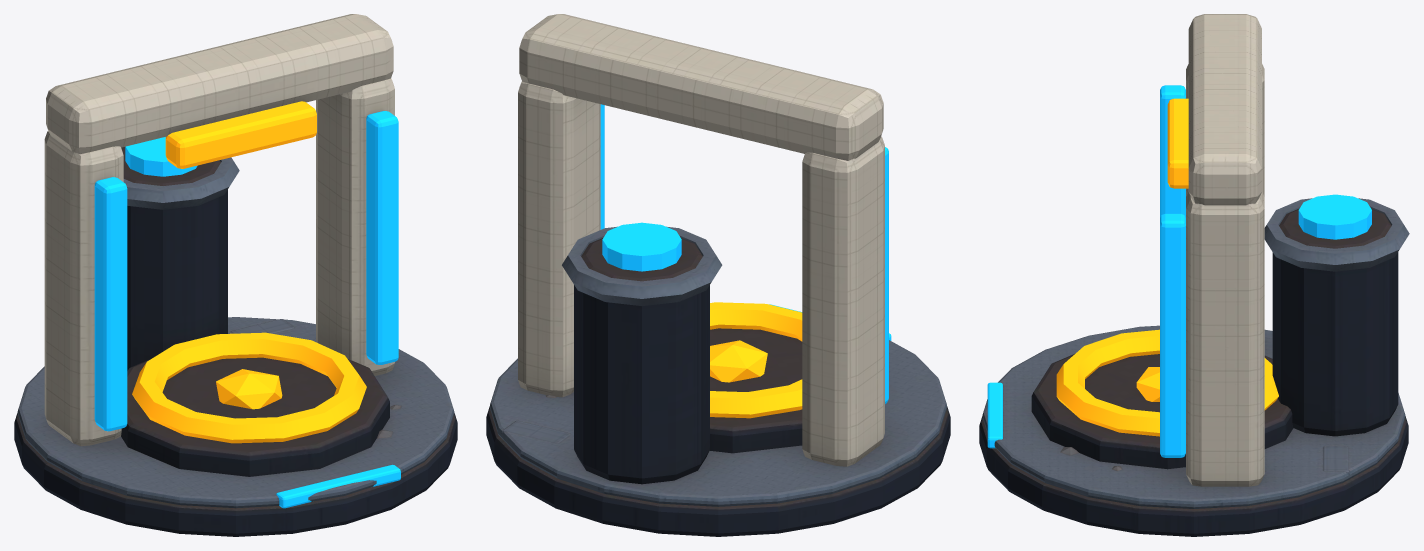
File: charger.glb
3 renders of one model, left to right at view 1: azimuth 30°, elevation 25°; view 2: azimuth 150°, elevation 25°; view 3: azimuth 270°, elevation 25°, orthographic. The views are drawn at different scales.
Parts seen in each view (by area): view 1: Android Ceramic, Android Graphite, Android Chassis, Android Energy, Android FactionAccent; view 2: Android Ceramic, Android Graphite, Android Chassis, Android Energy, Android FactionAccent; view 3: Android Graphite, Android Ceramic, Android Chassis, Android FactionAccent, Android Energy.
Boxes of the visible parts, <box> form: Android Ceramic: <box>44,14,394,446</box>; Android Graphite: <box>14,147,457,536</box>; Android Chassis: <box>17,157,454,508</box>; Android Energy: <box>132,101,366,443</box>; Android FactionAccent: <box>94,111,400,508</box>; Android Ceramic: <box>518,14,884,466</box>; Android Graphite: <box>486,238,950,536</box>; Android Chassis: <box>490,226,946,506</box>; Android Energy: <box>710,302,802,418</box>; Android FactionAccent: <box>600,104,891,403</box>; Android Graphite: <box>979,208,1408,536</box>; Android Ceramic: <box>1186,14,1264,486</box>; Android Chassis: <box>982,198,1409,508</box>; Android FactionAccent: <box>987,85,1371,457</box>; Android Energy: <box>1056,98,1278,436</box>.
Bounding box in the file's own units: 0.82 × 0.768 × 0.822.
6 materials, 4 textured.
